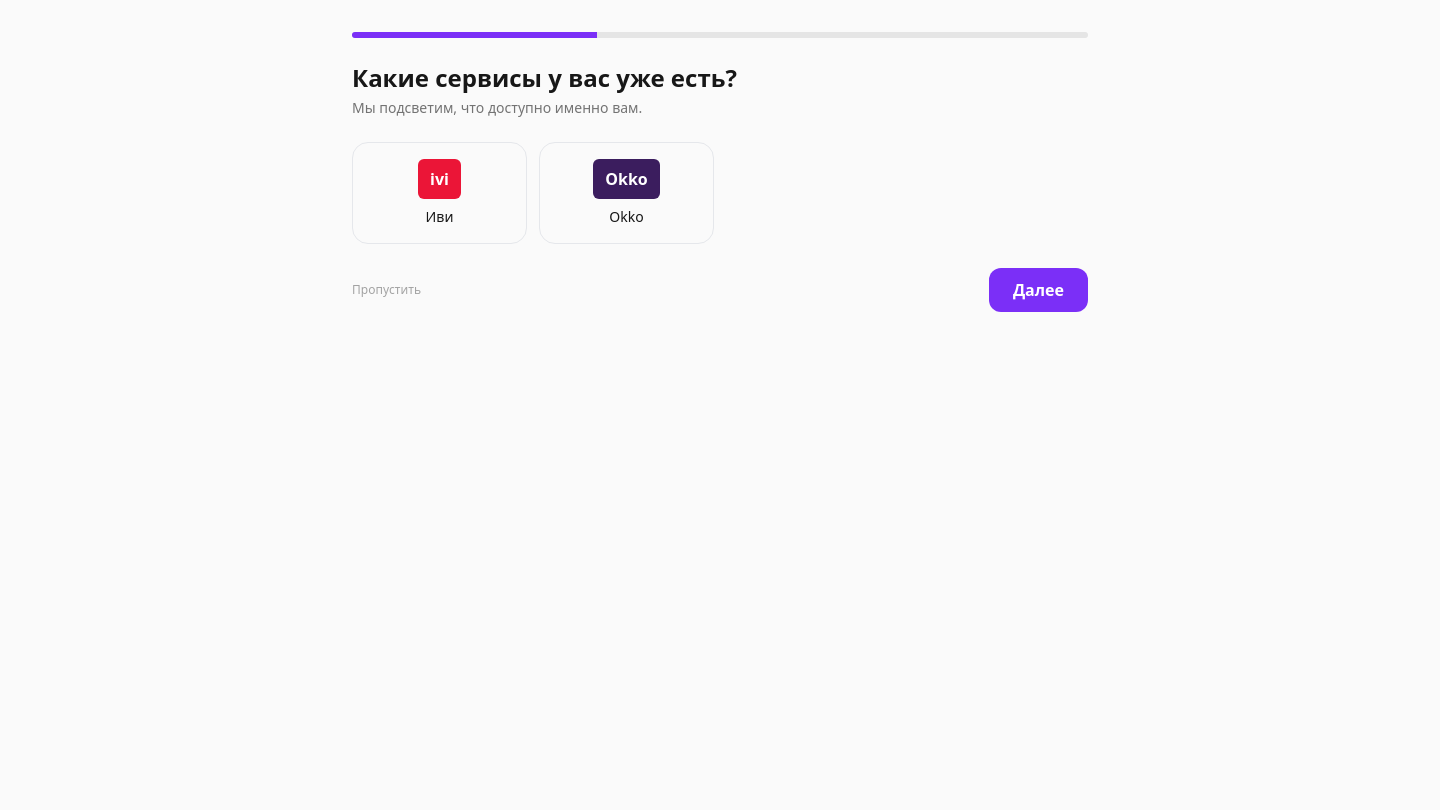
Test case: Onboarding › navigates to step 2
The width and height of the screenshot is (1440, 810).
Click the button "Далее". click: {"x": 1038, "y": 290}
box: [989,268,1088,312]
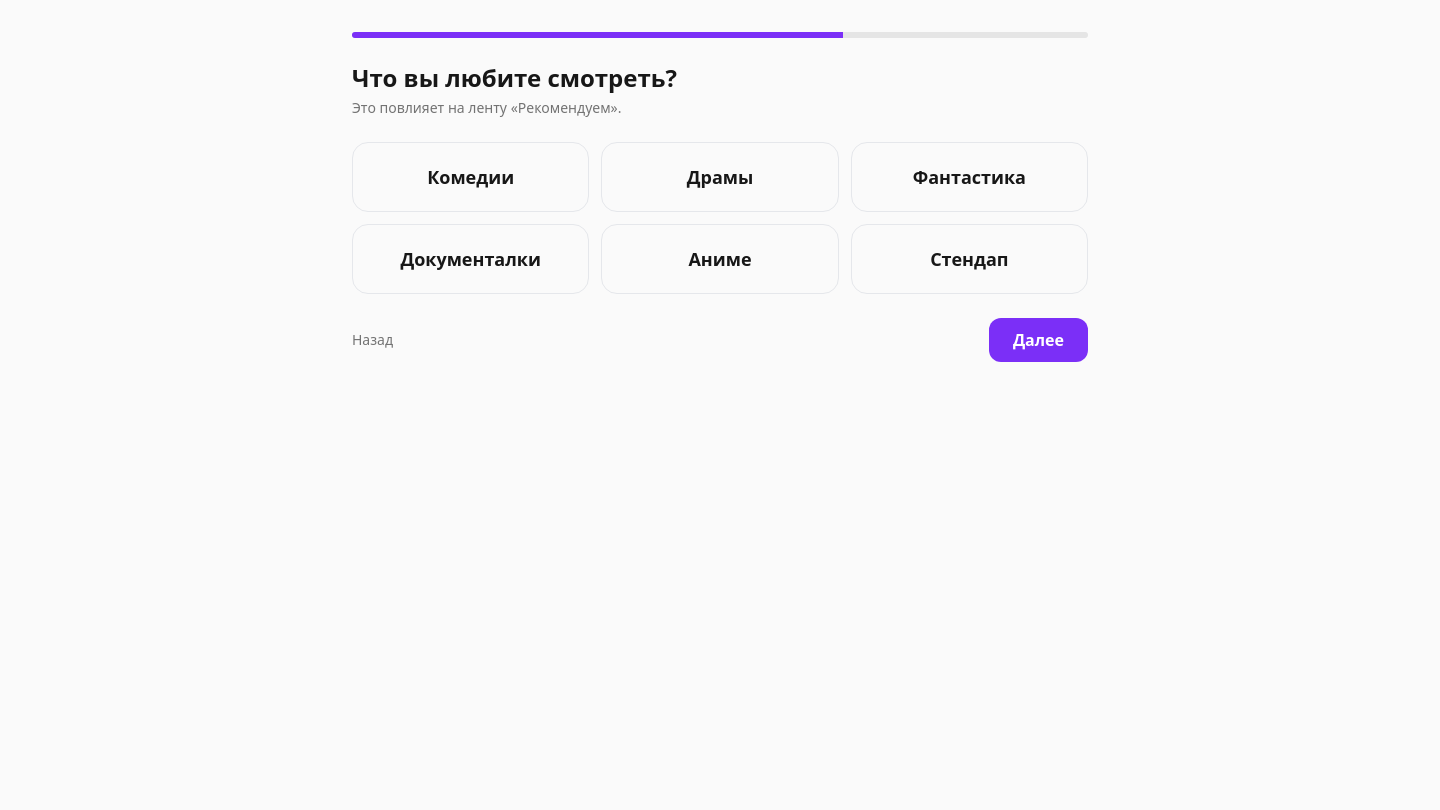
Result: the heading "Что вы любите смотреть?" is shown at [352,61,677,94]
